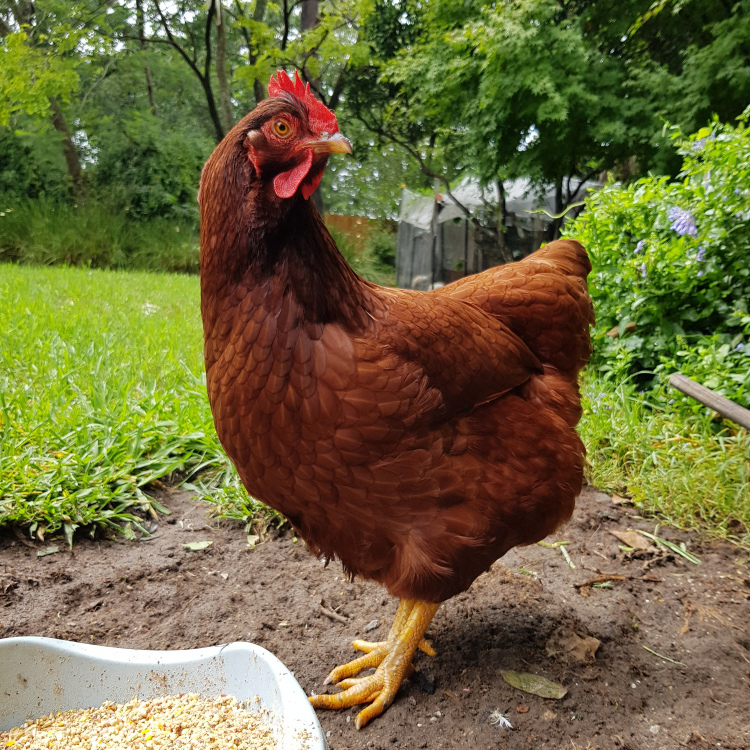Healthy: (182, 43, 365, 275)
